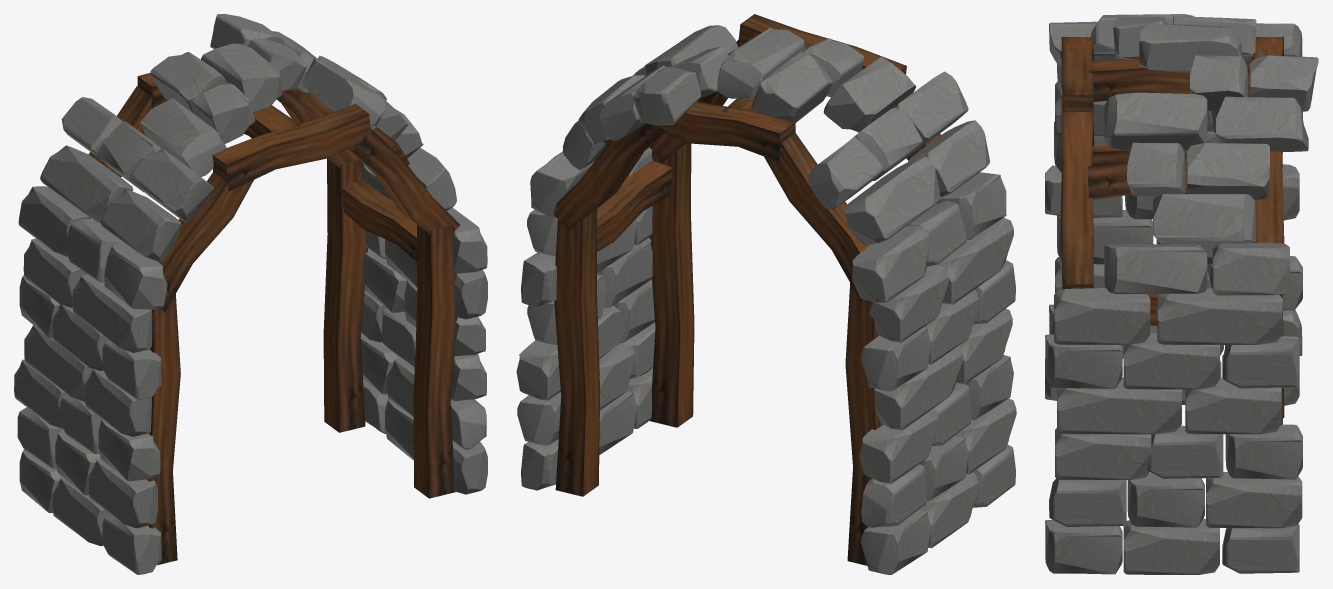
Rendered from BigCampEntrance.fbx.
3 views of the same model, side by side, from view 1: azimuth 30°, elevation 25°; view 2: azimuth 150°, elevation 25°; view 3: azimuth 270°, elevation 25° (orthographic). The views are drawn at different scales.
Visible parts, largest first — view 1: BigCampEntrance; view 2: BigCampEntrance; view 3: BigCampEntrance.
Part boxes in pixels (x1=…): BigCampEntrance: x1=14, y1=14, x2=487, y2=574; BigCampEntrance: x1=516, y1=14, x2=1016, y2=574; BigCampEntrance: x1=1045, y1=14, x2=1318, y2=574.
Size of the model in its own units: 16.94 by 19.31 by 10.6.
Materials: 1 (1 with a texture image).
